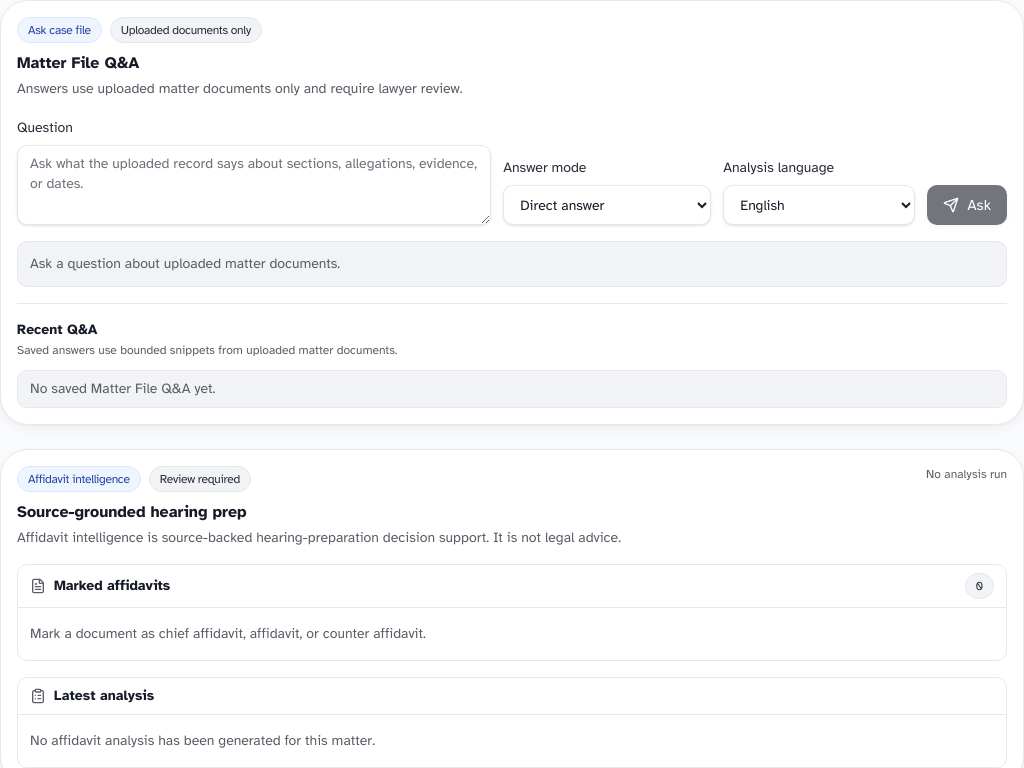
it: MatterDocumentsPage › submits a Matter File Q&A question and renders answer sources
The width and height of the screenshot is (1024, 768).
Type "Which IPC sections are invoked?" into the text box with test id "matter-file-qa-question" at (254, 185), box [17,145,491,225]
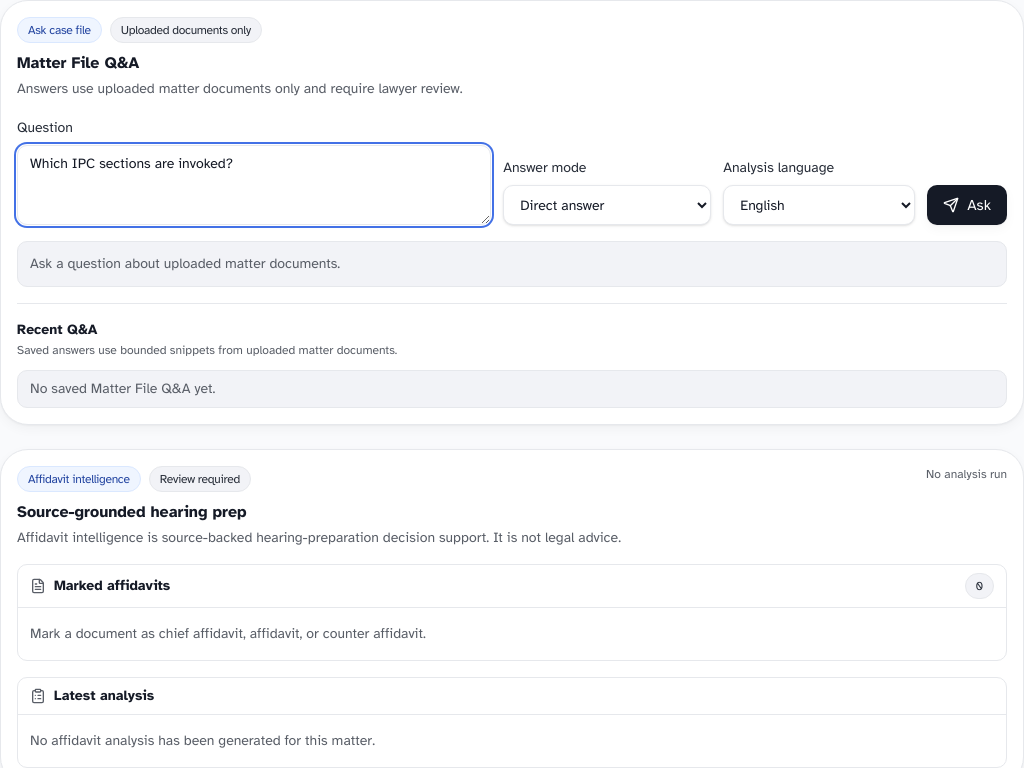
Select "Sections" in the dropdown with test id "matter-file-qa-mode" at (607, 205), box [503,185,711,225]
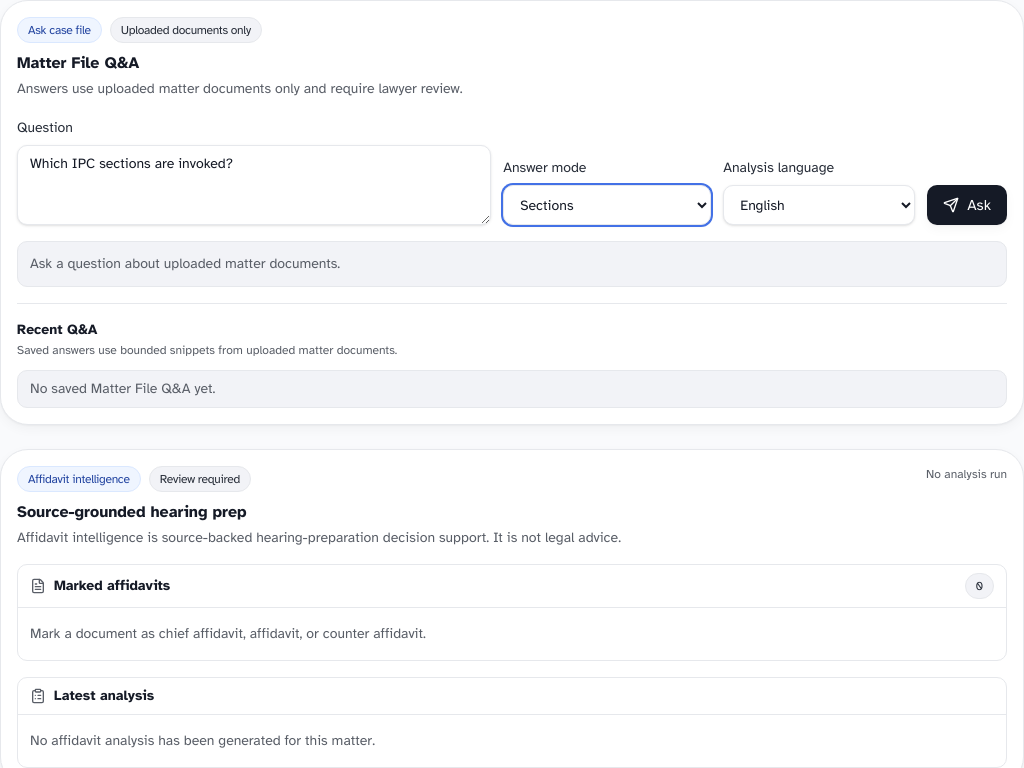
Click the button with test id "matter-file-qa-submit" at (967, 205), box [927,185,1007,225]
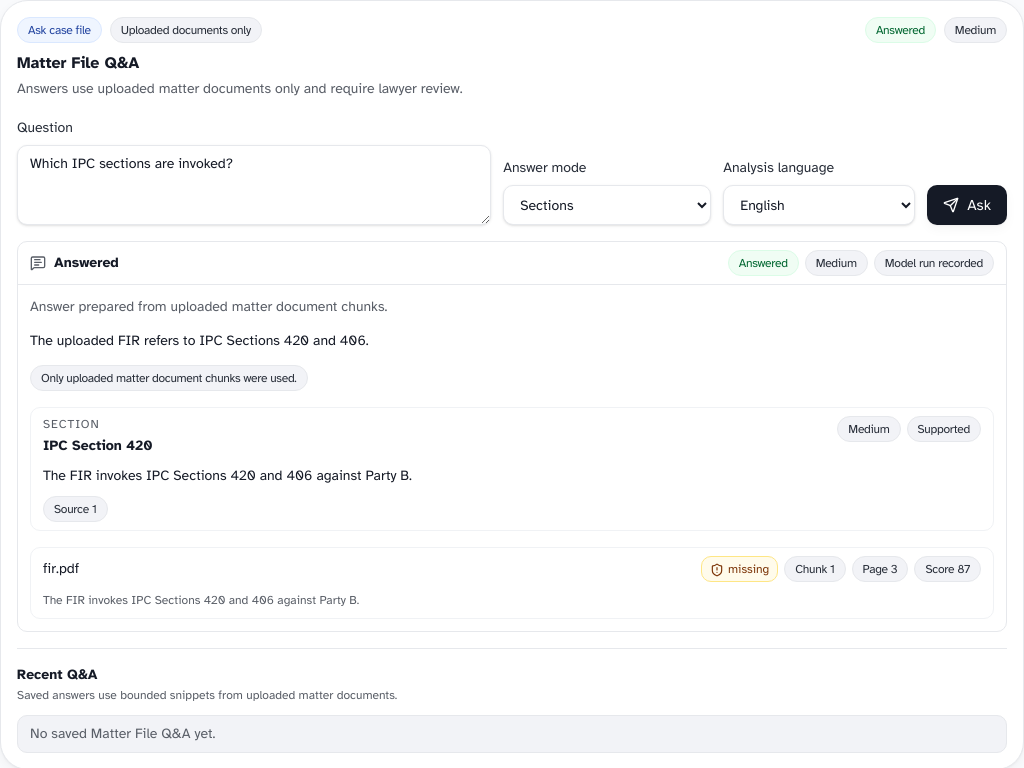
Now the element with test id "matter-file-qa-result-answered" shows "IPC Sections 420 and 406", box [30,332,369,349]
Now the element with test id "matter-file-qa-sources" shows "fir.pdf", box [43,559,79,579]
Now the element with test id "matter-file-qa-structured-items" shows "IPC Section 420", box [43,437,152,454]
